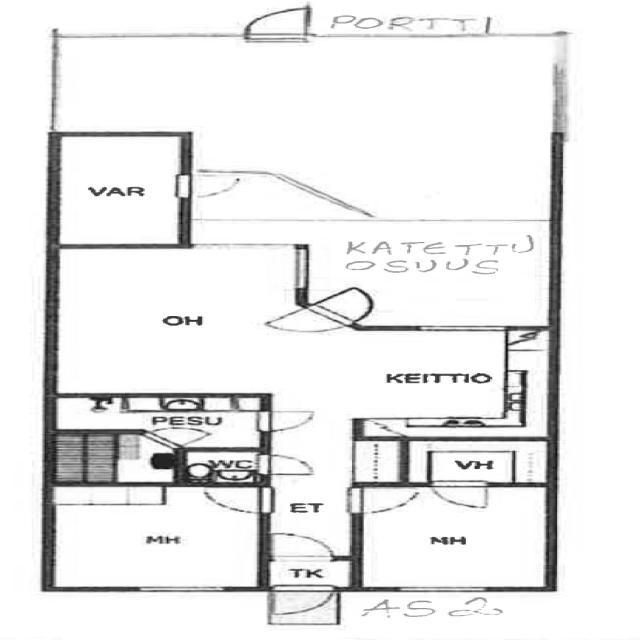door: (236, 4, 315, 44), (261, 304, 350, 337), (320, 283, 386, 320), (264, 586, 340, 618), (170, 171, 252, 200), (345, 485, 422, 515), (198, 485, 274, 515), (264, 531, 336, 562), (425, 481, 494, 512), (252, 409, 318, 433), (142, 426, 216, 447), (258, 454, 314, 477)
window: (64, 28, 236, 42), (277, 246, 319, 294), (309, 31, 473, 42), (126, 582, 234, 597), (408, 321, 515, 336), (386, 583, 500, 596), (185, 240, 299, 253)
zone: (49, 246, 303, 392), (309, 219, 560, 324), (322, 328, 555, 436), (48, 483, 261, 589), (356, 483, 552, 588), (51, 134, 186, 246), (46, 395, 271, 446), (408, 441, 558, 485), (180, 449, 268, 485)
